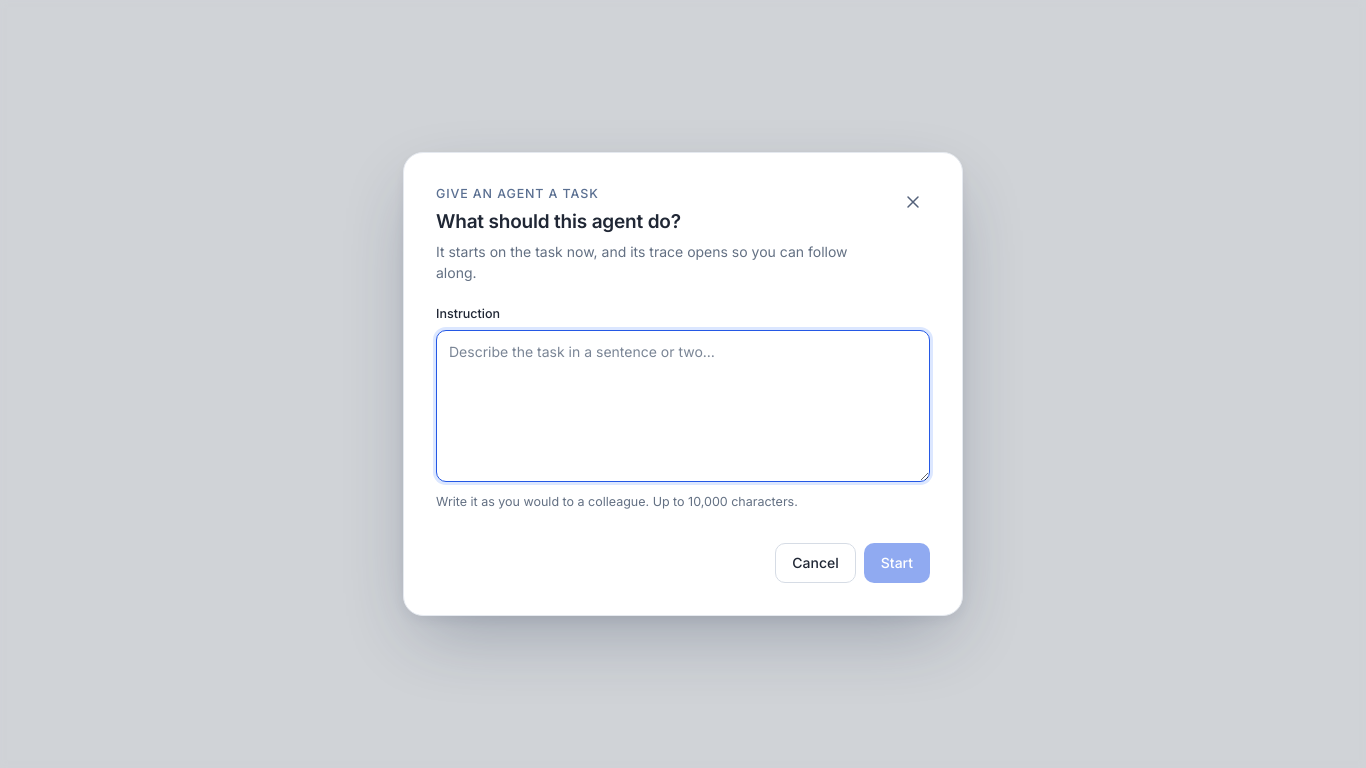
Test: TaskDialog › from an agent's page, creates a one-task goal for that agent, closes at once and opens its run
This screenshot has width=1366, height=768.
In the text box labelled "Instruction": coordinates (683, 406) x1=436 y1=330 x2=930 y2=482, type "Check the stock levels"
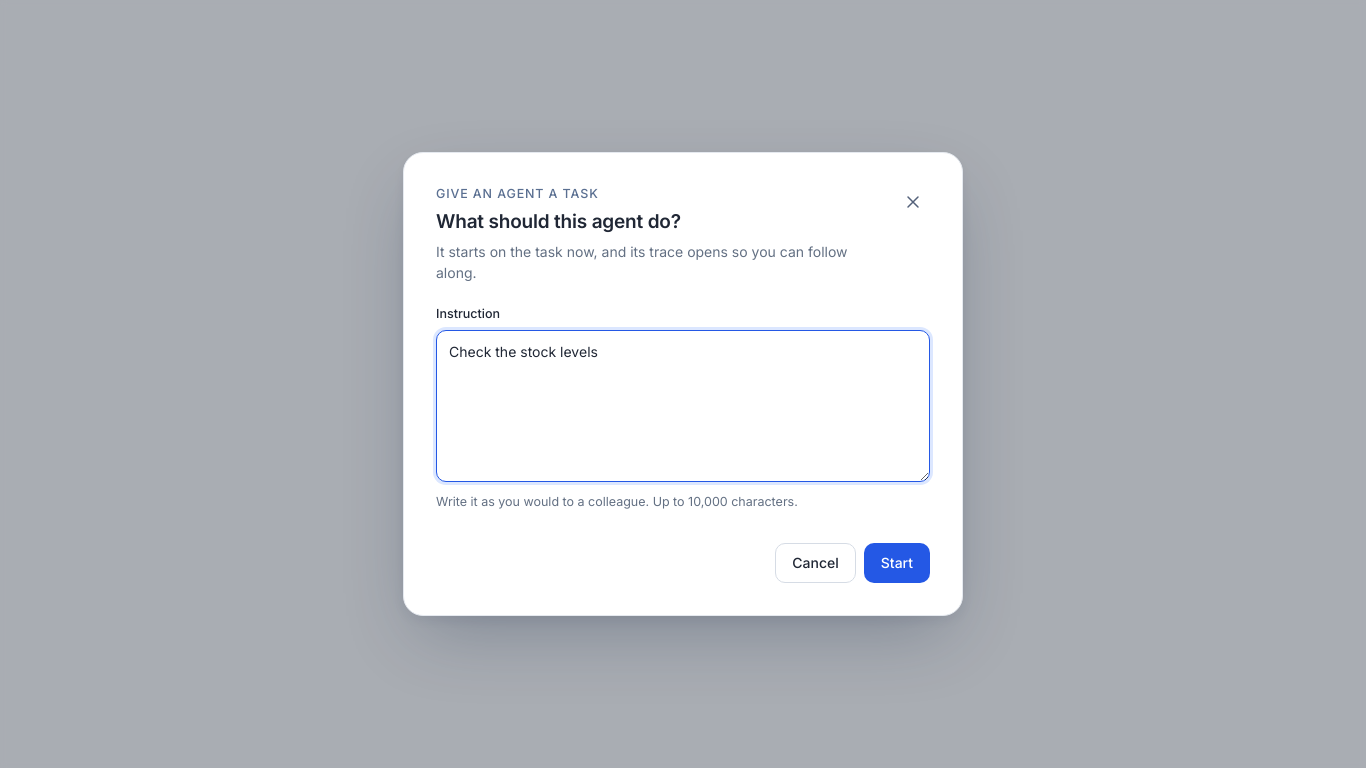
Click the button "Start": coordinates (897, 563) x1=864 y1=543 x2=930 y2=583
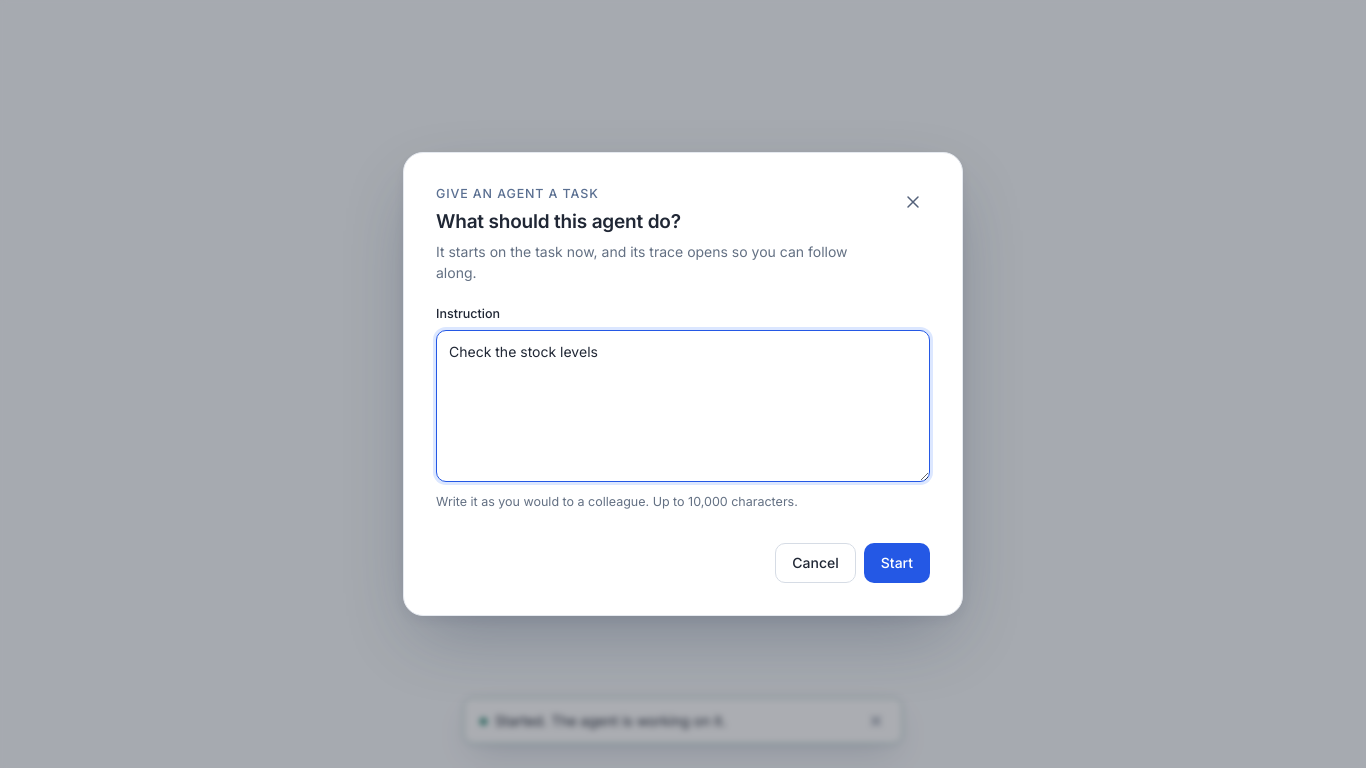
Expected: the text "Started. The agent is working on it." is shown, x1=480 y1=710 x2=726 y2=731
